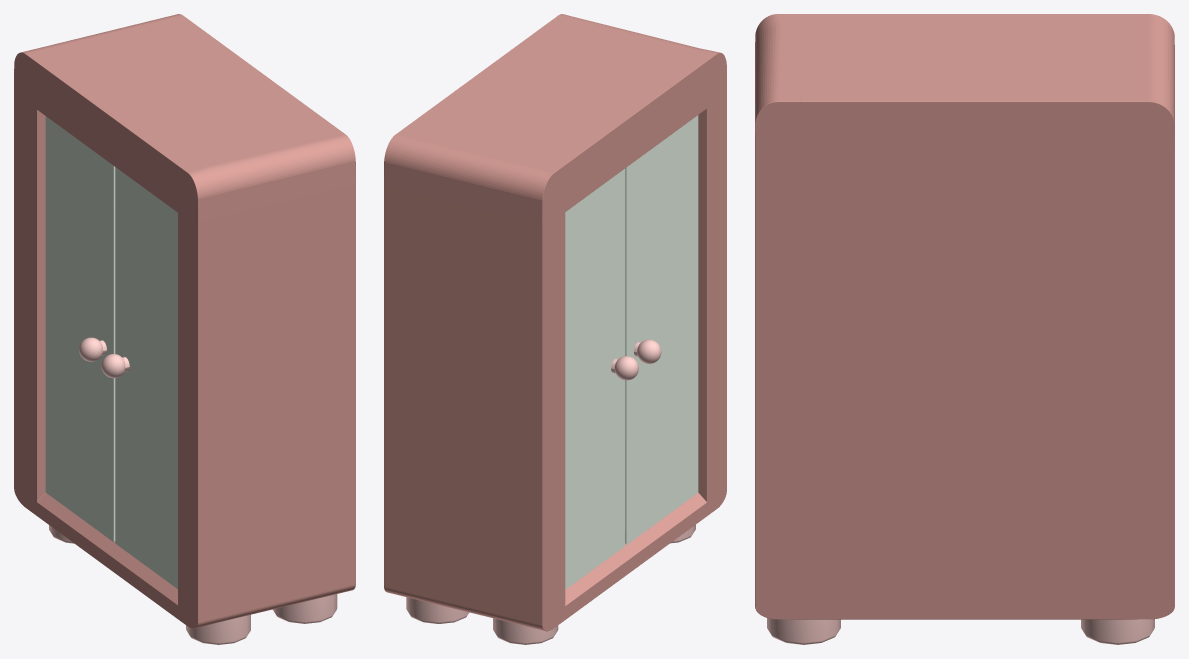
The model's file is Closet_One.fbx.
The picture shows the model from 3 angles, left to right: view 1: azimuth 30°, elevation 25°; view 2: azimuth 150°, elevation 25°; view 3: azimuth 270°, elevation 25°; orthographic projection. The views are drawn at different scales.
Parts seen in each view (by area): view 1: Base.002, Cylinder.009, Cylinder.010; view 2: Base.002, Cylinder.008, Cylinder.011, Sphere, Sphere.001; view 3: Base.002, Cylinder.010, Cylinder.011.
Boxes of the visible parts, left/top/right/bottom form: Base.002: left=14, top=14, right=355, bottom=628; Cylinder.009: left=186, top=614, right=250, bottom=644; Cylinder.010: left=272, top=594, right=337, bottom=623; Base.002: left=384, top=14, right=726, bottom=631; Cylinder.008: left=493, top=618, right=558, bottom=644; Cylinder.011: left=406, top=597, right=469, bottom=623; Sphere: left=614, top=356, right=638, bottom=380; Sphere.001: left=637, top=339, right=661, bottom=363; Base.002: left=755, top=14, right=1174, bottom=619; Cylinder.010: left=767, top=618, right=840, bottom=644; Cylinder.011: left=1081, top=619, right=1154, bottom=644.
Size of the model in its own units: 1.89 by 3.5 by 5.02.
